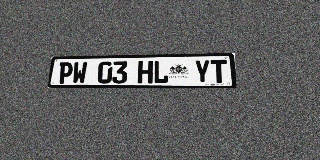plate: (48, 53, 236, 88)
